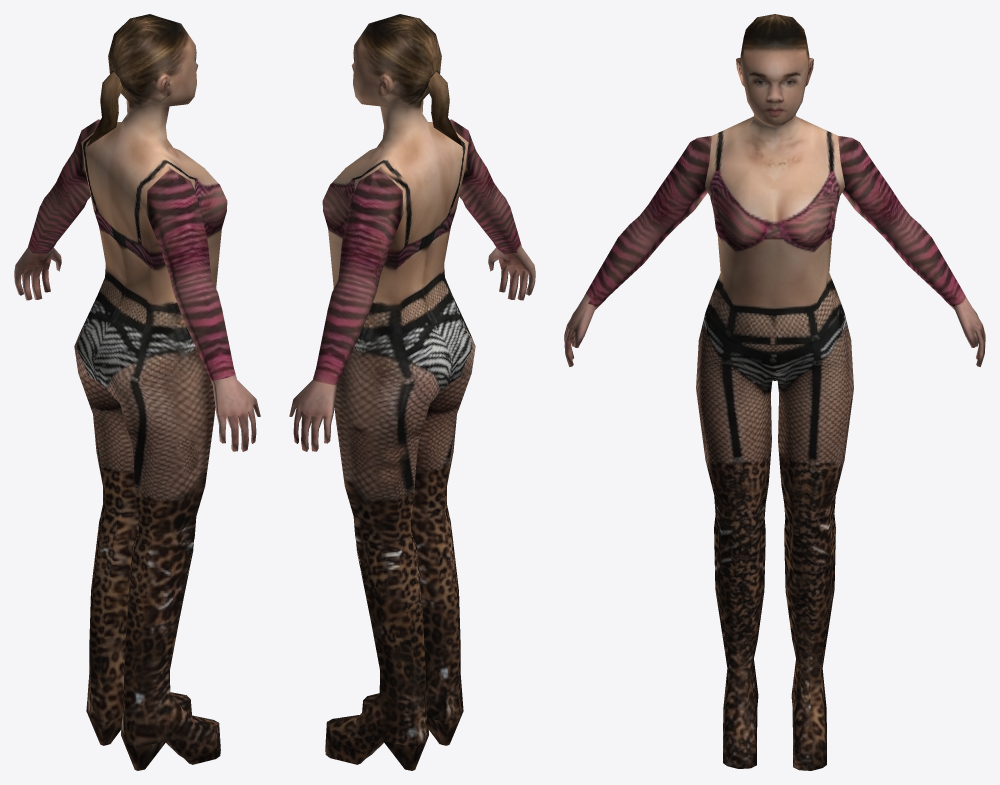
Rendered from Character_56_Female_Exotic_dancer_01.fbx.
The picture shows the model from 3 angles, left to right: view 1: azimuth 30°, elevation 25°; view 2: azimuth 150°, elevation 25°; view 3: azimuth 270°, elevation 25°; orthographic projection.
Parts seen in each view (by area): view 1: Character_56_Female_Exotic_dancer_01; view 2: Character_56_Female_Exotic_dancer_01; view 3: Character_56_Female_Exotic_dancer_01.
Part boxes in pixels (box(x1,y1,x2,y2)): Character_56_Female_Exotic_dancer_01: box(14, 14, 260, 770); Character_56_Female_Exotic_dancer_01: box(289, 14, 535, 770); Character_56_Female_Exotic_dancer_01: box(564, 14, 985, 770).
Size of the model in its own units: 0.3096 by 1.72 by 0.9079.
